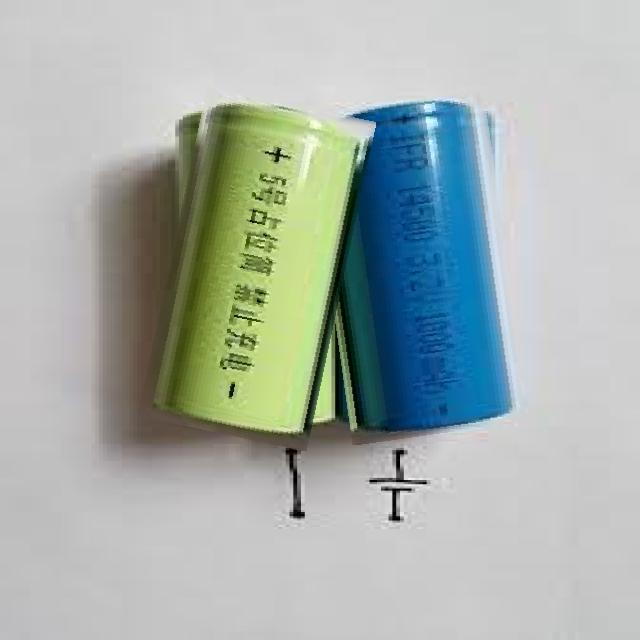Battery: (328, 94, 524, 444), (161, 104, 355, 450)
